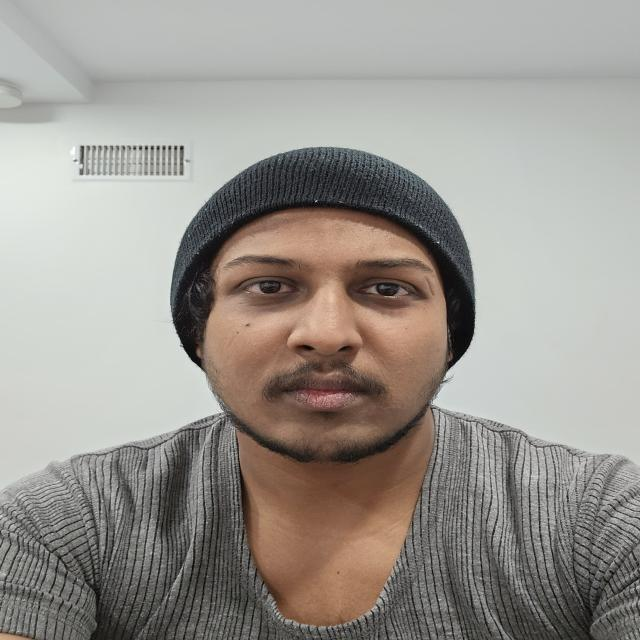cap: (135, 138, 537, 376)
